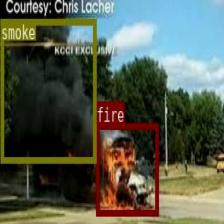fire: (95, 123, 158, 214)
smoke: (0, 18, 96, 162)
